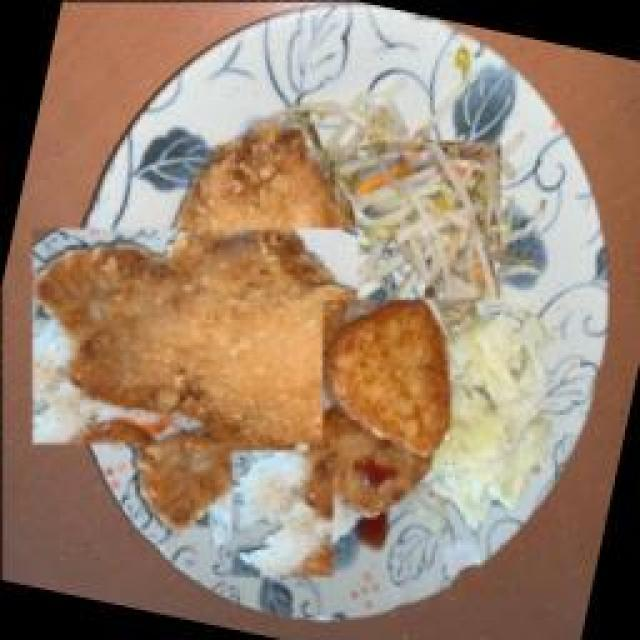chinese_cabbage: (408, 295, 581, 545)
fried_chicken: (13, 123, 438, 548)
mung_bean_sprouts: (325, 110, 533, 328)
rice: (200, 433, 363, 596)
triangle_hash_brown: (278, 275, 481, 538)
